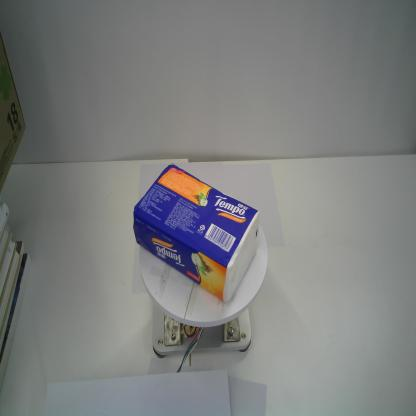Tissue: (131, 163, 261, 304)
